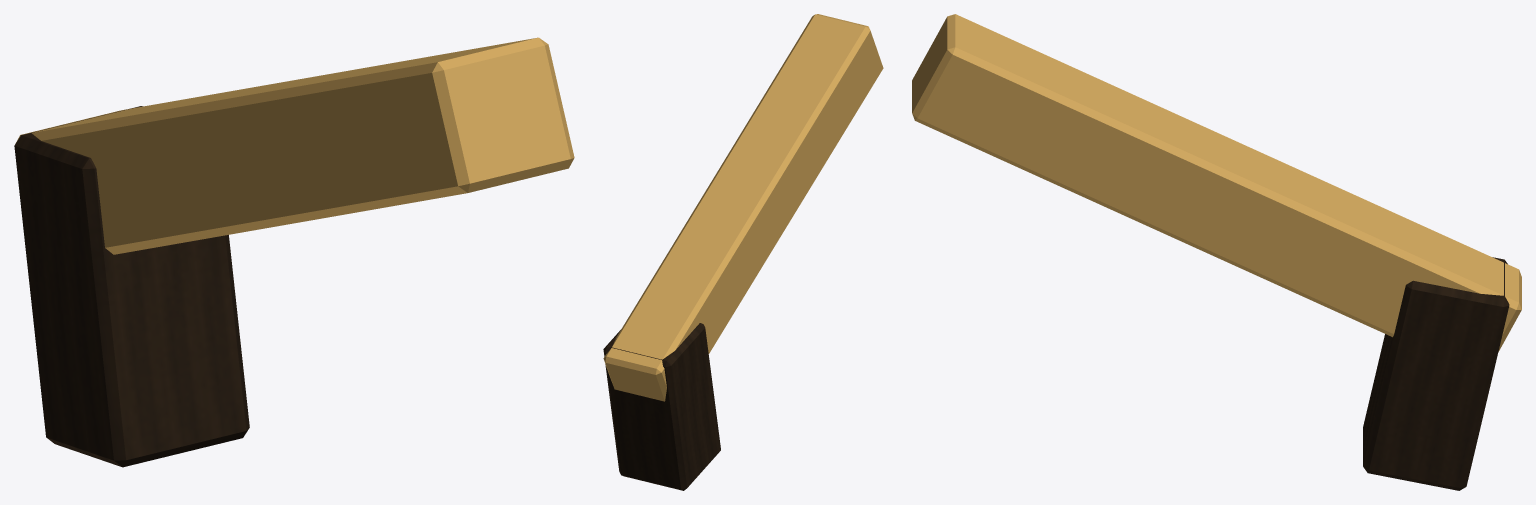
Rendered from WardenWand.glb.
3 renders of one model, left to right at view 1: azimuth 30°, elevation 25°; view 2: azimuth 150°, elevation 25°; view 3: azimuth 270°, elevation 25°, orthographic. The views are drawn at different scales.
Parts seen in each view (by area): view 1: Spray wand, Wand grip; view 2: Spray wand, Wand grip; view 3: Spray wand, Wand grip.
Boxes of the visible parts, x1=… form: Spray wand: x1=15, y1=37, x2=574, y2=254; Wand grip: x1=14, y1=106, x2=249, y2=467; Spray wand: x1=603, y1=14, x2=883, y2=401; Wand grip: x1=603, y1=323, x2=720, y2=490; Spray wand: x1=912, y1=14, x2=1521, y2=351; Wand grip: x1=1363, y1=257, x2=1509, y2=490.
Size of the model in its own units: 0.07 by 0.3215 by 0.4033.
Materials: 2 (1 with a texture image).
